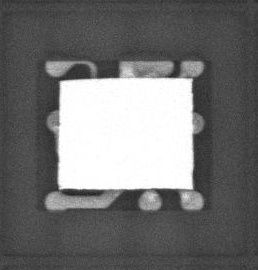DIE_BROKEN: (59, 76, 86, 82)
